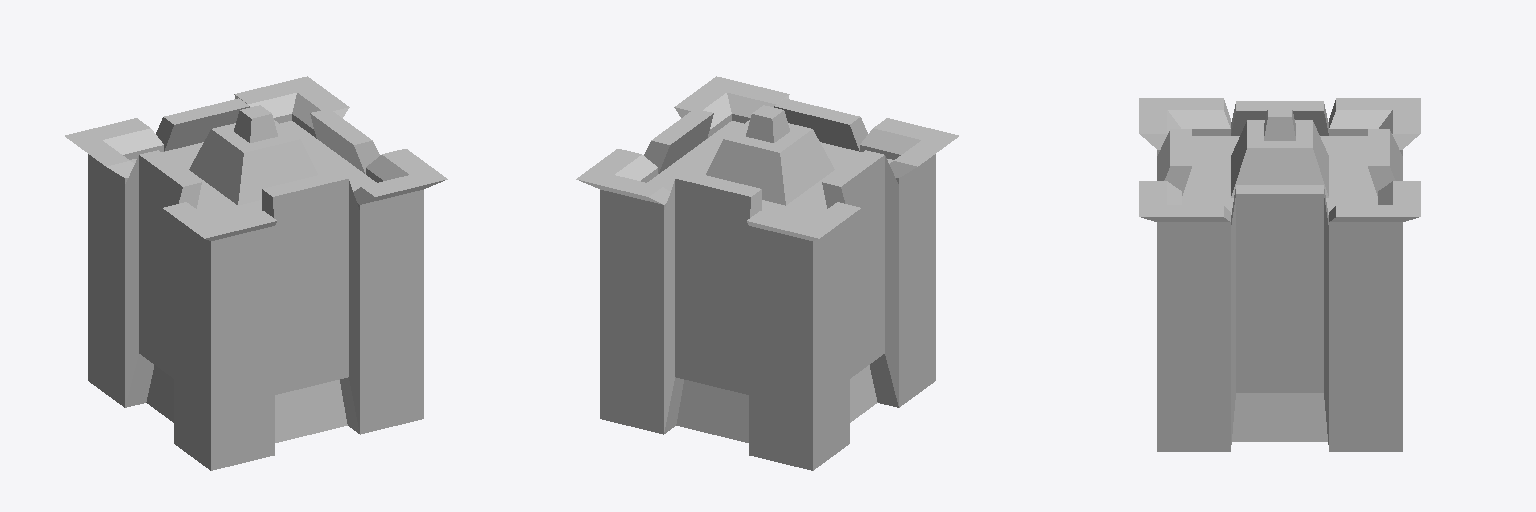
The model's file is Defense System.obj.
3 views of the same model, side by side, from view 1: azimuth 30°, elevation 25°; view 2: azimuth 150°, elevation 25°; view 3: azimuth 270°, elevation 25° (orthographic).
Parts seen in each view (by area): view 1: Defense_System1; view 2: Defense_System1; view 3: Defense_System1.
Part boxes in pixels (x1,y1,x2,y2): Defense_System1: (65,76,447,470); Defense_System1: (576,76,958,470); Defense_System1: (1139,98,1420,451).
Size of the model in its own units: 2.51 by 2.84 by 2.51.